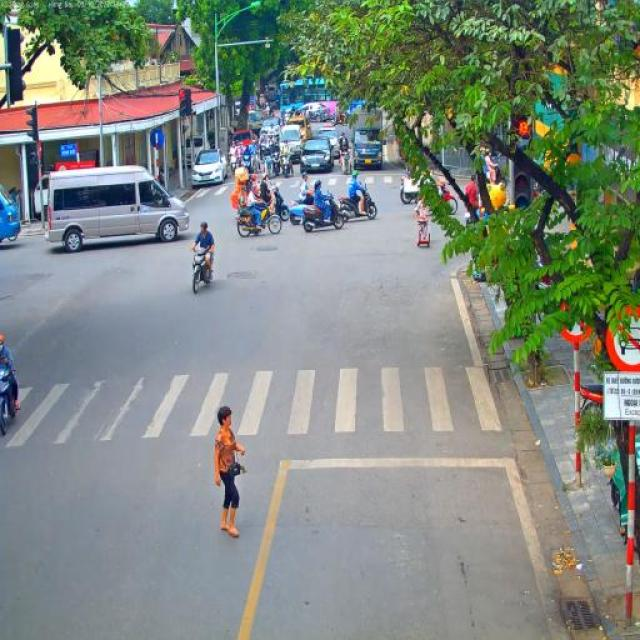bus: (44, 164, 190, 253), (279, 77, 337, 119)
car: (191, 148, 229, 187), (300, 137, 334, 174), (279, 124, 303, 164), (288, 115, 312, 146), (318, 130, 340, 160), (304, 102, 331, 122), (260, 118, 280, 143), (230, 130, 251, 150)
motorcycle: (236, 199, 283, 239), (303, 193, 345, 232), (337, 186, 378, 222), (0, 362, 18, 436), (191, 244, 215, 294), (288, 186, 316, 226), (266, 186, 290, 222), (437, 180, 459, 216), (399, 172, 422, 204), (339, 150, 352, 176), (230, 154, 240, 180), (250, 153, 262, 174), (282, 153, 292, 178), (270, 153, 280, 178), (262, 155, 272, 180), (244, 155, 255, 175), (332, 110, 342, 126)
truck: (352, 111, 384, 170), (0, 183, 24, 247), (235, 111, 261, 137), (265, 86, 280, 110)
